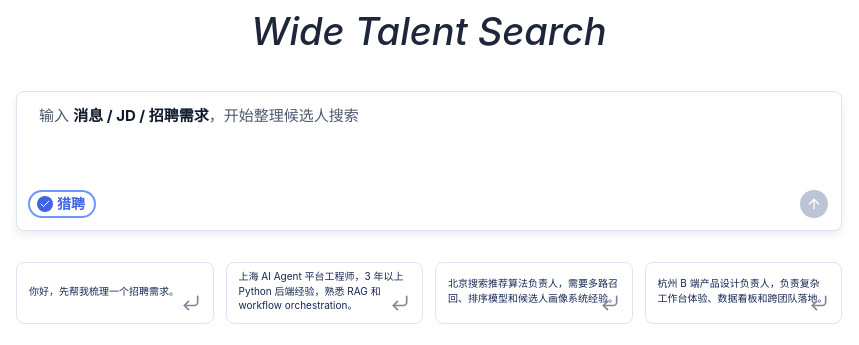
Test case: HomeStartPanel › fills the WTS input from a suggestion card
The image size is (859, 345).
Step 1. Click the button "AI Agent 平台工程师" → (324, 293), box [226,262,423,324]
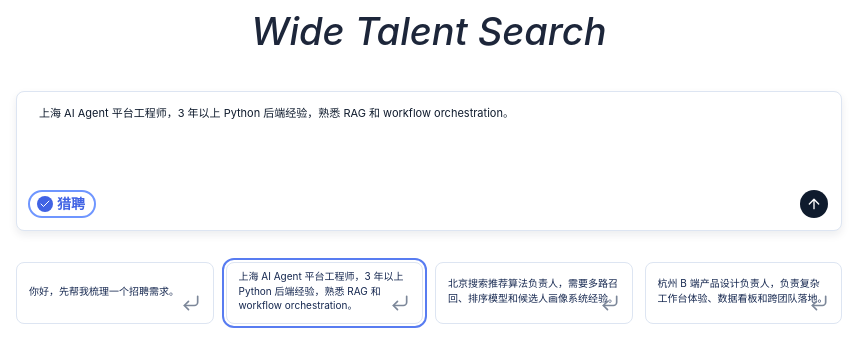
Expected: the text box named "消息、JD 或招聘需求" holds "上海 AI Agent 平台工程师，3 年以上 Python 后端经验，熟悉 RAG 和 workflow orchestration。", [33,106,825,175]
